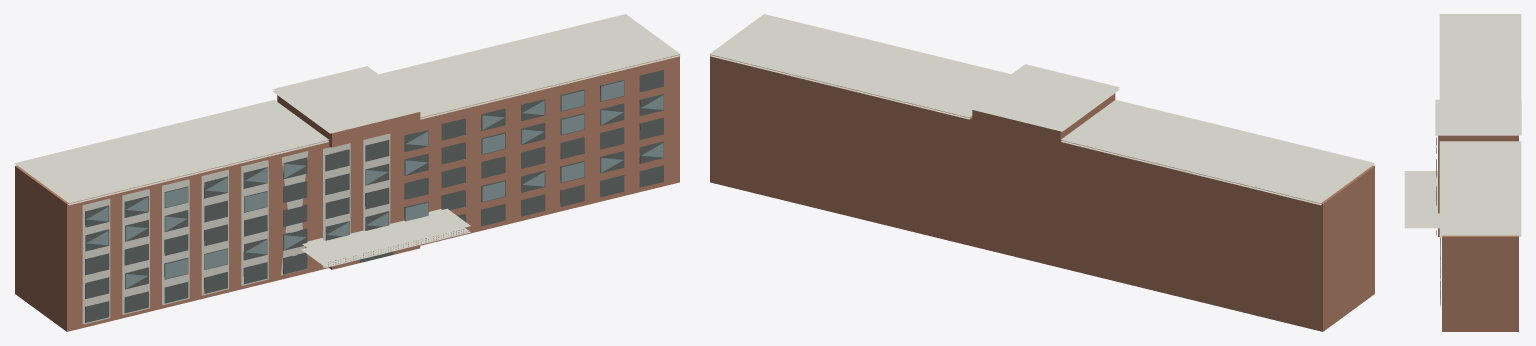
The model's file is buildings-20-medium.glb.
3 views of the same model, side by side, from view 1: azimuth 30°, elevation 25°; view 2: azimuth 150°, elevation 25°; view 3: azimuth 270°, elevation 25° (orthographic). The views are drawn at different scales.
Visible parts, largest first — view 1: 恒隆物理楼 · Physics pale stone.001, 恒隆物理楼 · Physics red brick.001, 恒隆物理楼 · Physics window frames.001, 恒隆物理楼 · Physics glazing.001; view 2: 恒隆物理楼 · Physics red brick.001, 恒隆物理楼 · Physics pale stone.001; view 3: 恒隆物理楼 · Physics pale stone.001, 恒隆物理楼 · Physics red brick.001, 恒隆物理楼 · Physics window frames.001.
Boxes of the visible parts, x1,y1,x2,y2 form: 恒隆物理楼 · Physics pale stone.001: (14,14,680,324); 恒隆物理楼 · Physics red brick.001: (15,54,679,331); 恒隆物理楼 · Physics window frames.001: (85,70,663,322); 恒隆物理楼 · Physics glazing.001: (86,81,663,288); 恒隆物理楼 · Physics red brick.001: (710,54,1374,331); 恒隆物理楼 · Physics pale stone.001: (709,14,1375,205); 恒隆物理楼 · Physics pale stone.001: (1404,14,1521,236); 恒隆物理楼 · Physics red brick.001: (1438,135,1518,331); 恒隆物理楼 · Physics window frames.001: (1436,137,1440,306).
Bounding box in the file's own units: 92.8 × 20.3 × 20.67.
